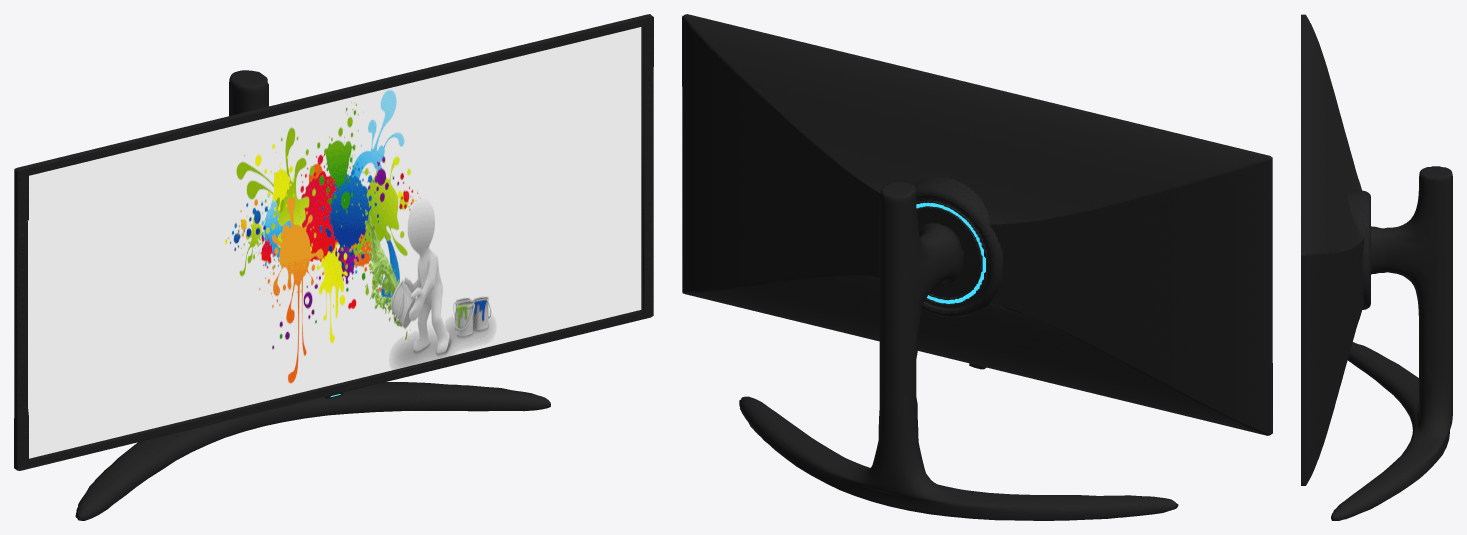
Rendered from moniteur.gltf.
3 views of the same model, side by side, from view 1: azimuth 30°, elevation 25°; view 2: azimuth 150°, elevation 25°; view 3: azimuth 270°, elevation 25° (orthographic). The views are drawn at different scales.
Parts seen in each view (by area): view 1: Ultrawide Monitor; view 2: Ultrawide Monitor; view 3: Ultrawide Monitor.
Boxes of the visible parts, <box> form: Ultrawide Monitor: <box>14,14,653,520</box>; Ultrawide Monitor: <box>682,14,1272,520</box>; Ultrawide Monitor: <box>1301,14,1452,520</box>.
Bounding box in the file's own units: 10.73 × 6.23 × 2.87.
Materials: 3 (2 with a texture image).
